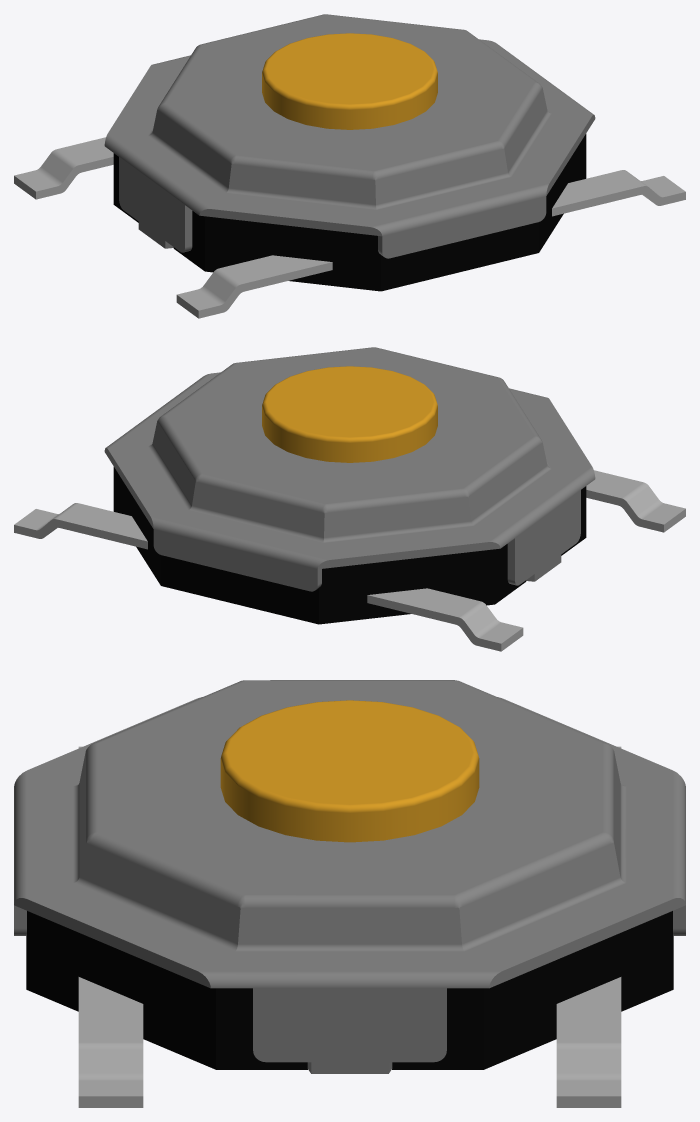
Rendered from SW_SPST_TL3342.glb.
The picture shows the model from 3 angles, top to bottom: view 1: azimuth 30°, elevation 25°; view 2: azimuth 150°, elevation 25°; view 3: azimuth 270°, elevation 25°; orthographic projection. The views are drawn at different scales.
Parts seen in each view (by area): view 1: =>[0:1:1:3]; view 2: =>[0:1:1:3]; view 3: =>[0:1:1:3].
Boxes of the visible parts, box(x1,y1,x2,y2) form: =>[0:1:1:3]: box(14, 14, 685, 318); =>[0:1:1:3]: box(14, 347, 685, 651); =>[0:1:1:3]: box(14, 680, 685, 1107).
Size of the model in its own units: 0.0064 by 0.00154 by 0.0052.
